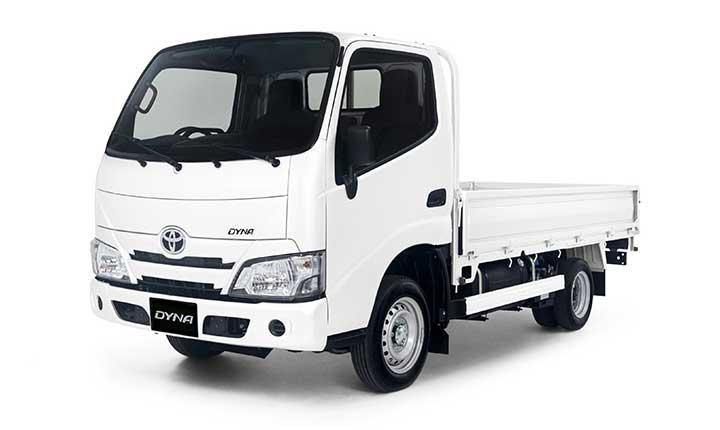truck: (88, 30, 641, 393)
